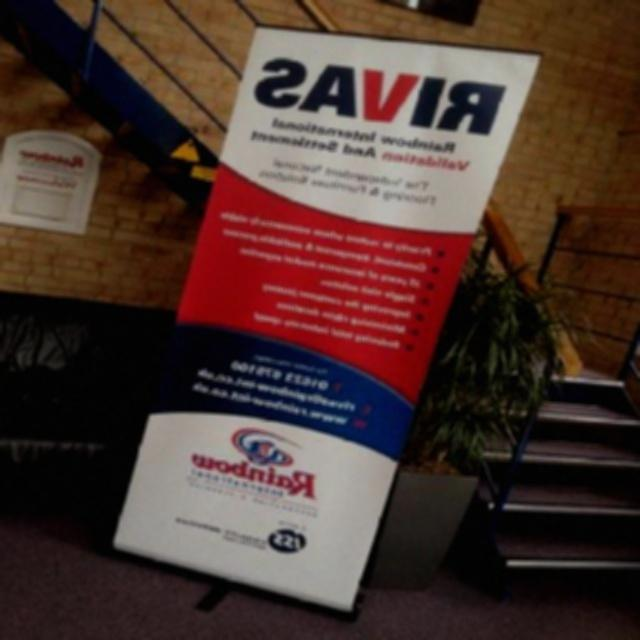stair: (431, 370, 640, 594)
